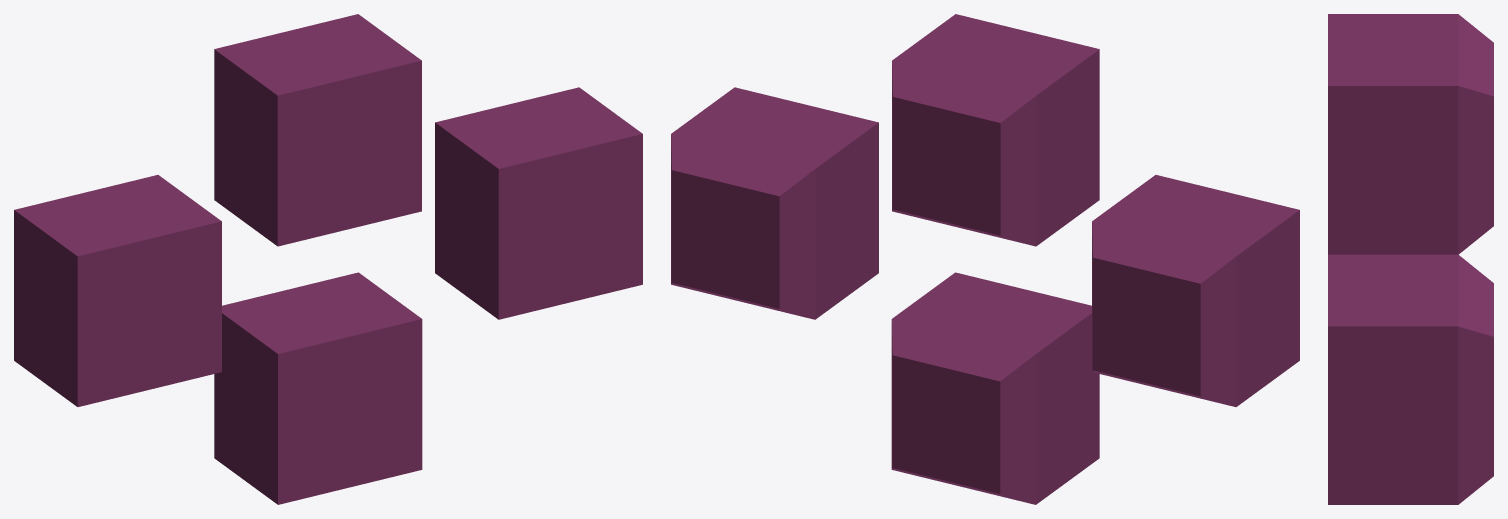
The model's file is Ore3.fbx.
3 renders of one model, left to right at view 1: azimuth 30°, elevation 25°; view 2: azimuth 150°, elevation 25°; view 3: azimuth 270°, elevation 25°, orthographic. The views are drawn at different scales.
Parts seen in each view (by area): view 1: Cube.041; view 2: Cube.041; view 3: Cube.041.
Boxes of the visible parts, x1=… form: Cube.041: x1=14, y1=14, x2=642, y2=504; Cube.041: x1=671, y1=14, x2=1299, y2=504; Cube.041: x1=1328, y1=14, x2=1493, y2=504.
Bounding box in the file's own units: 0.9492 × 0.6569 × 0.2357.
